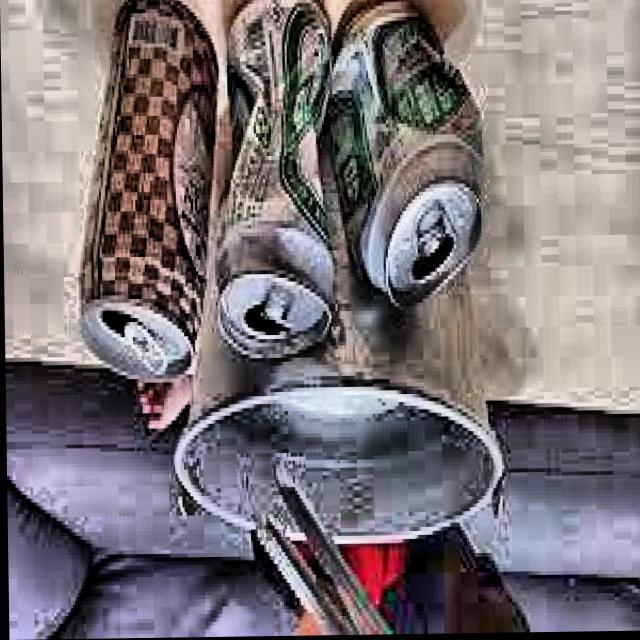can: (71, 0, 223, 402), (317, 0, 492, 321), (212, 0, 346, 375)
